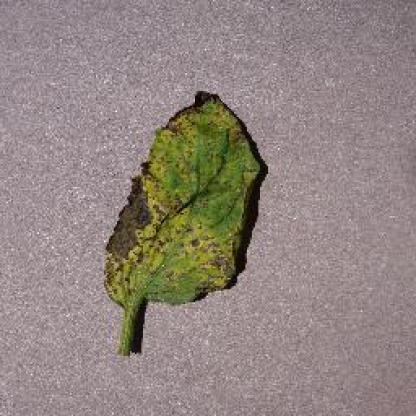bad leaf: (114, 95, 233, 307)
